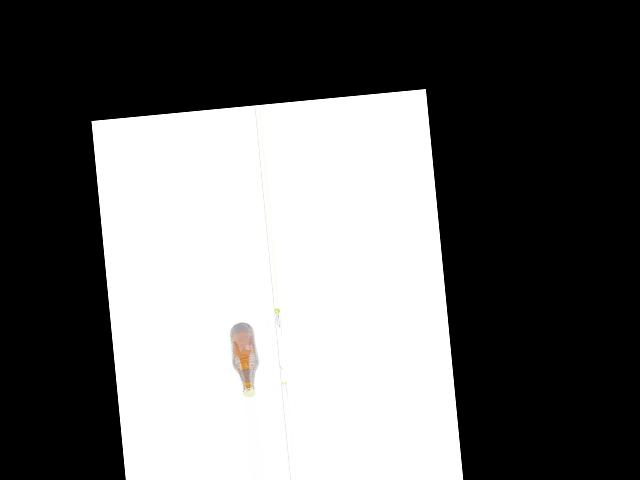beer: (228, 321, 262, 398)
